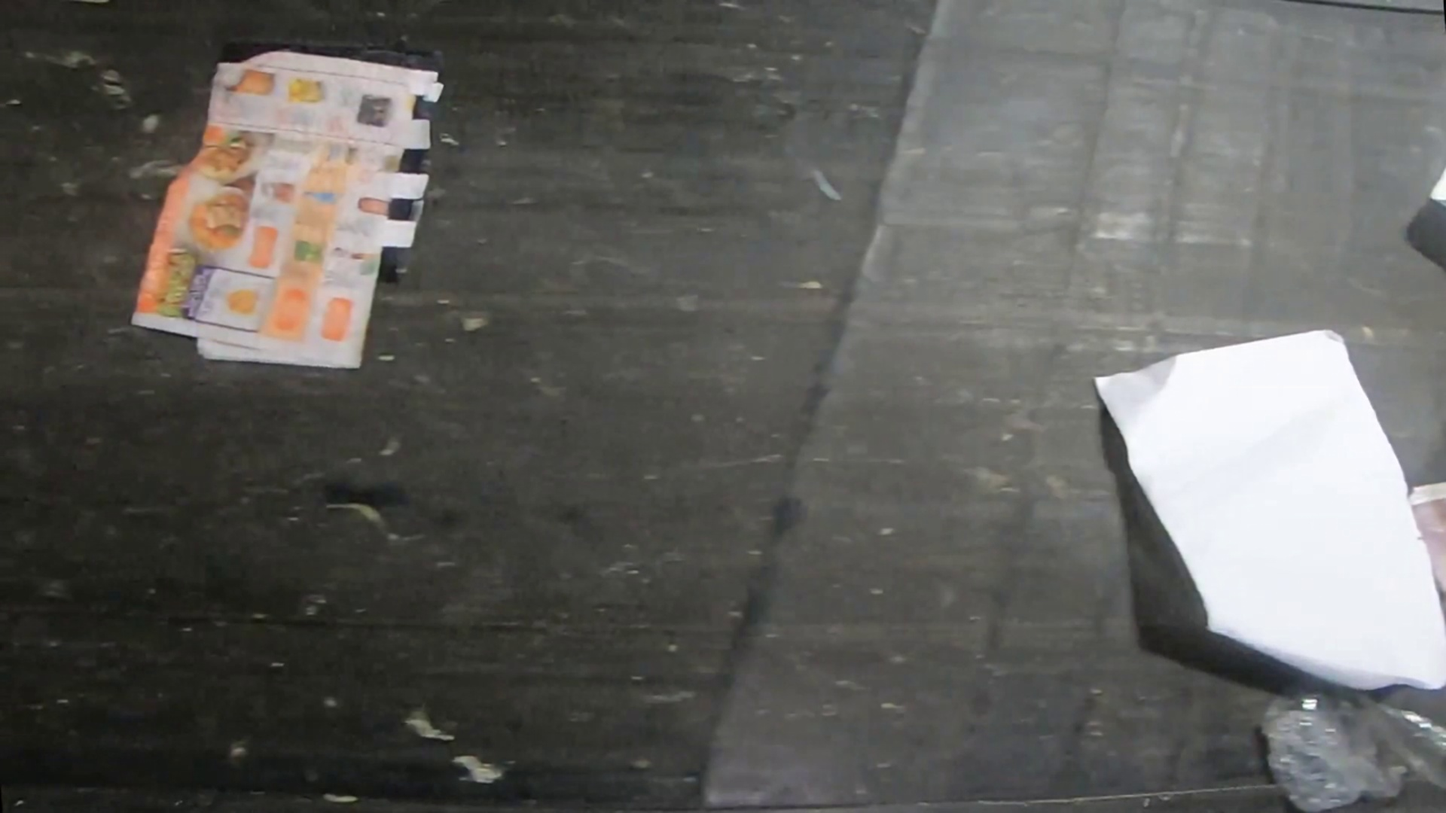plastic: (1261, 671, 1446, 813)
